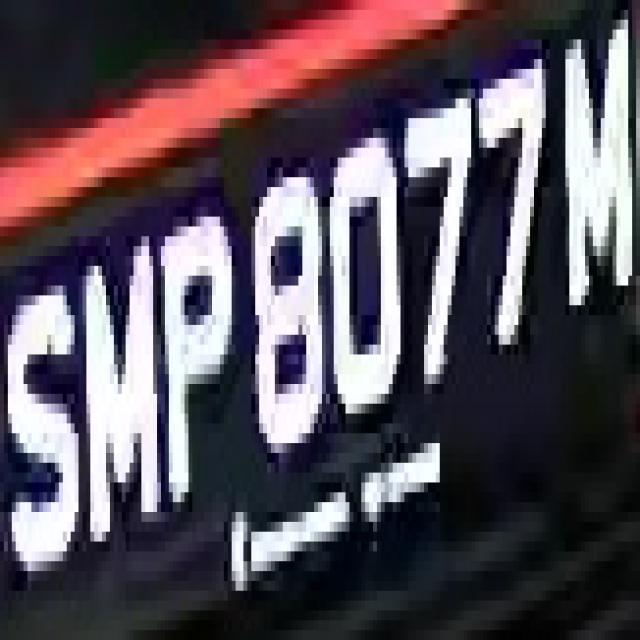0: (318, 119, 404, 424)
7: (389, 69, 479, 404), (463, 69, 554, 374)
8: (251, 158, 330, 482)
M: (63, 226, 165, 591), (558, 29, 632, 334)
P: (161, 187, 236, 522)
S: (0, 265, 82, 610)
